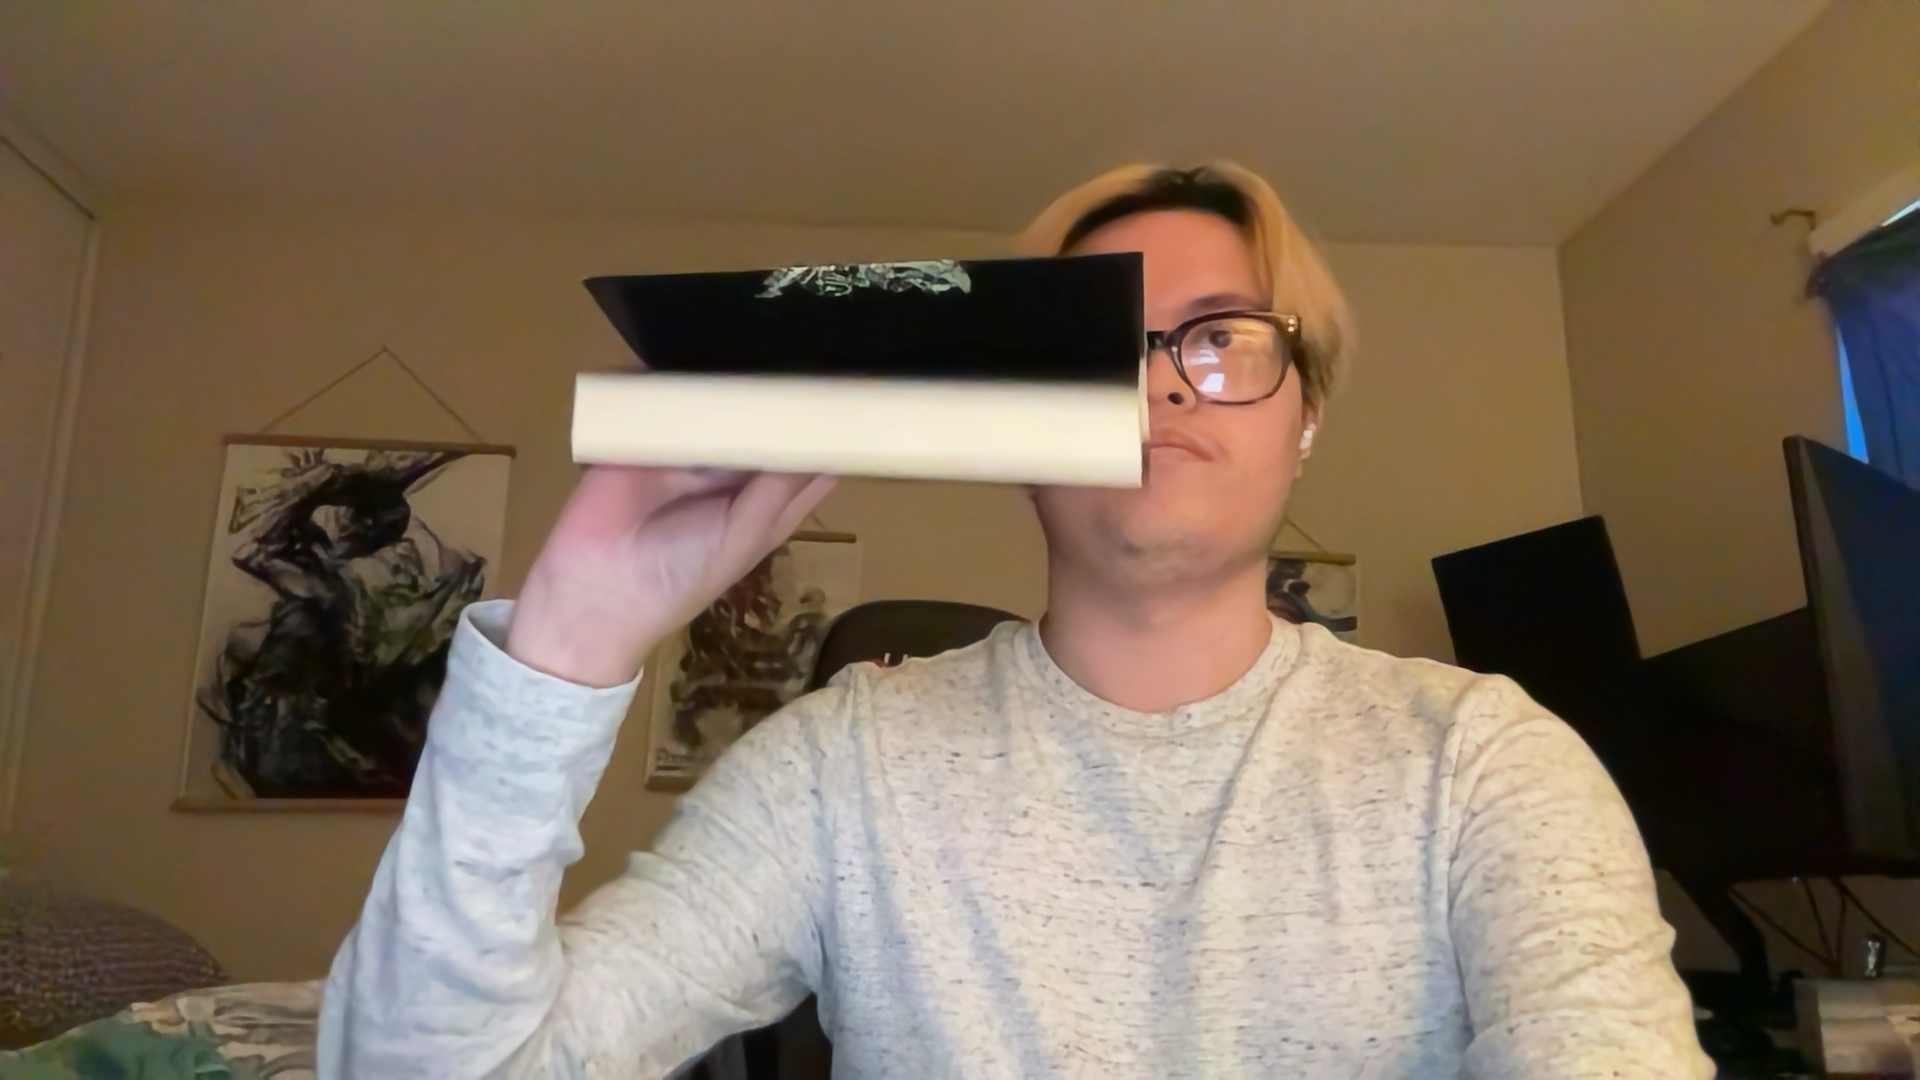book: (568, 266, 1160, 492)
